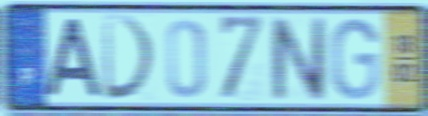0: (164, 16, 208, 101)
7: (217, 13, 267, 105)
A: (43, 16, 106, 100)
D: (100, 12, 159, 103)
G: (328, 15, 381, 102)
N: (267, 14, 329, 103)
